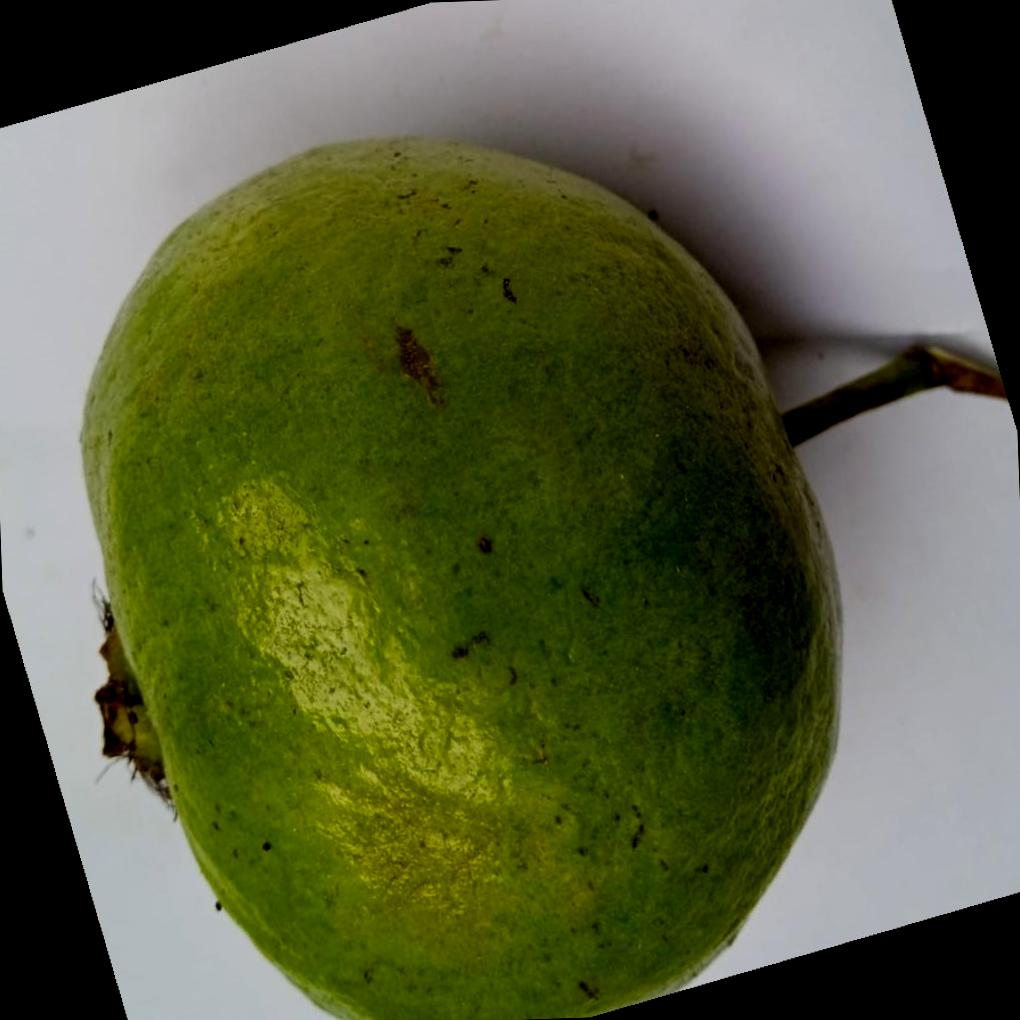FreshGuava: (77, 138, 845, 1020)
